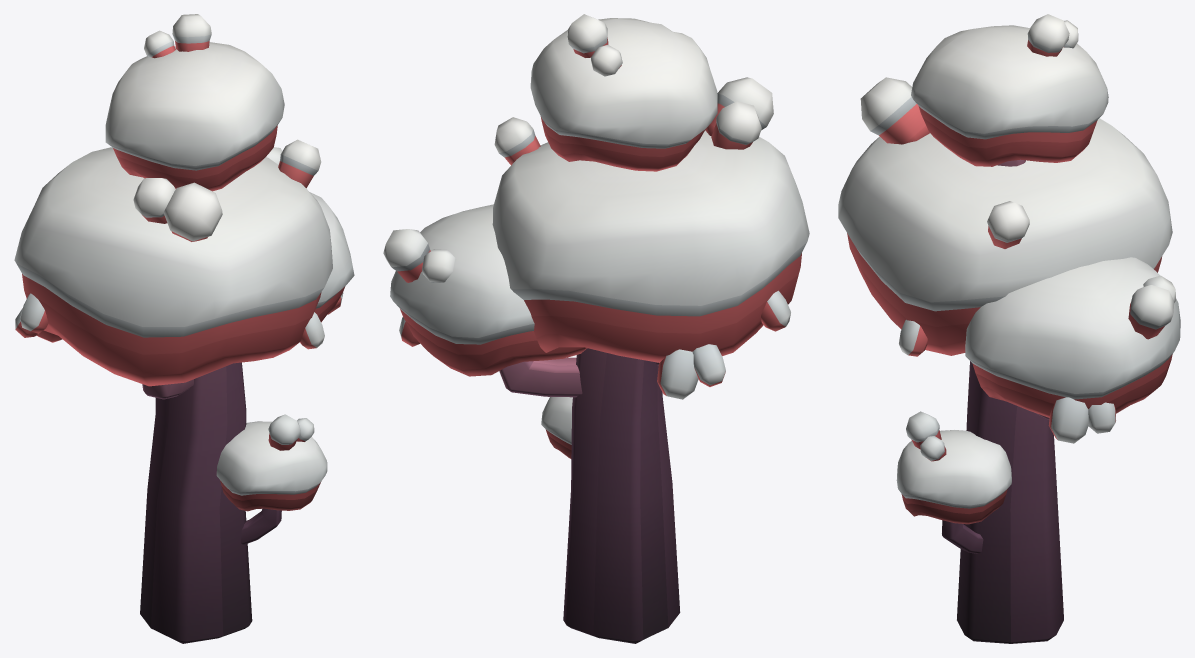
The model's file is grassland_tree_col3_6_snow.fbx.
3 views of the same model, side by side, from view 1: azimuth 30°, elevation 25°; view 2: azimuth 150°, elevation 25°; view 3: azimuth 270°, elevation 25° (orthographic). The views are drawn at different scales.
Visible parts, largest first — view 1: grassland_tree_col3_6_snow; view 2: grassland_tree_col3_6_snow; view 3: grassland_tree_col3_6_snow.
Part boxes in pixels (x1,y1,x2,y2): grassland_tree_col3_6_snow: [14, 14, 354, 643]; grassland_tree_col3_6_snow: [383, 14, 809, 643]; grassland_tree_col3_6_snow: [838, 14, 1180, 643].
Bounding box in the file's own units: 652 × 1085 × 547.
